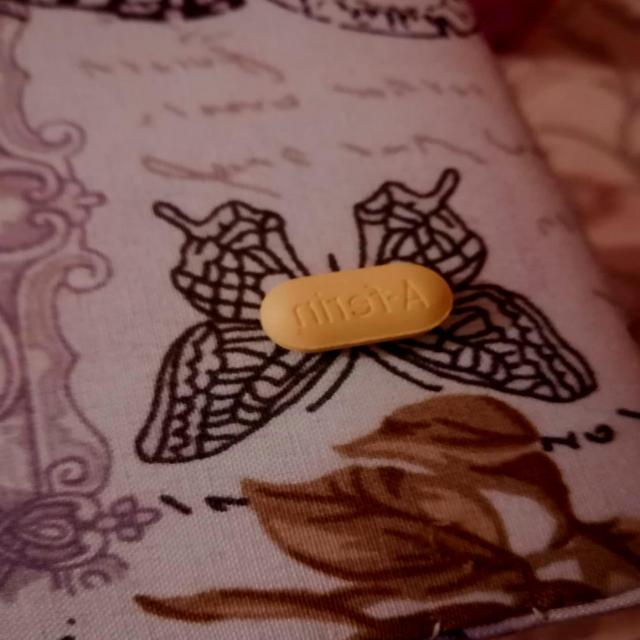pill: (257, 260, 454, 350)
